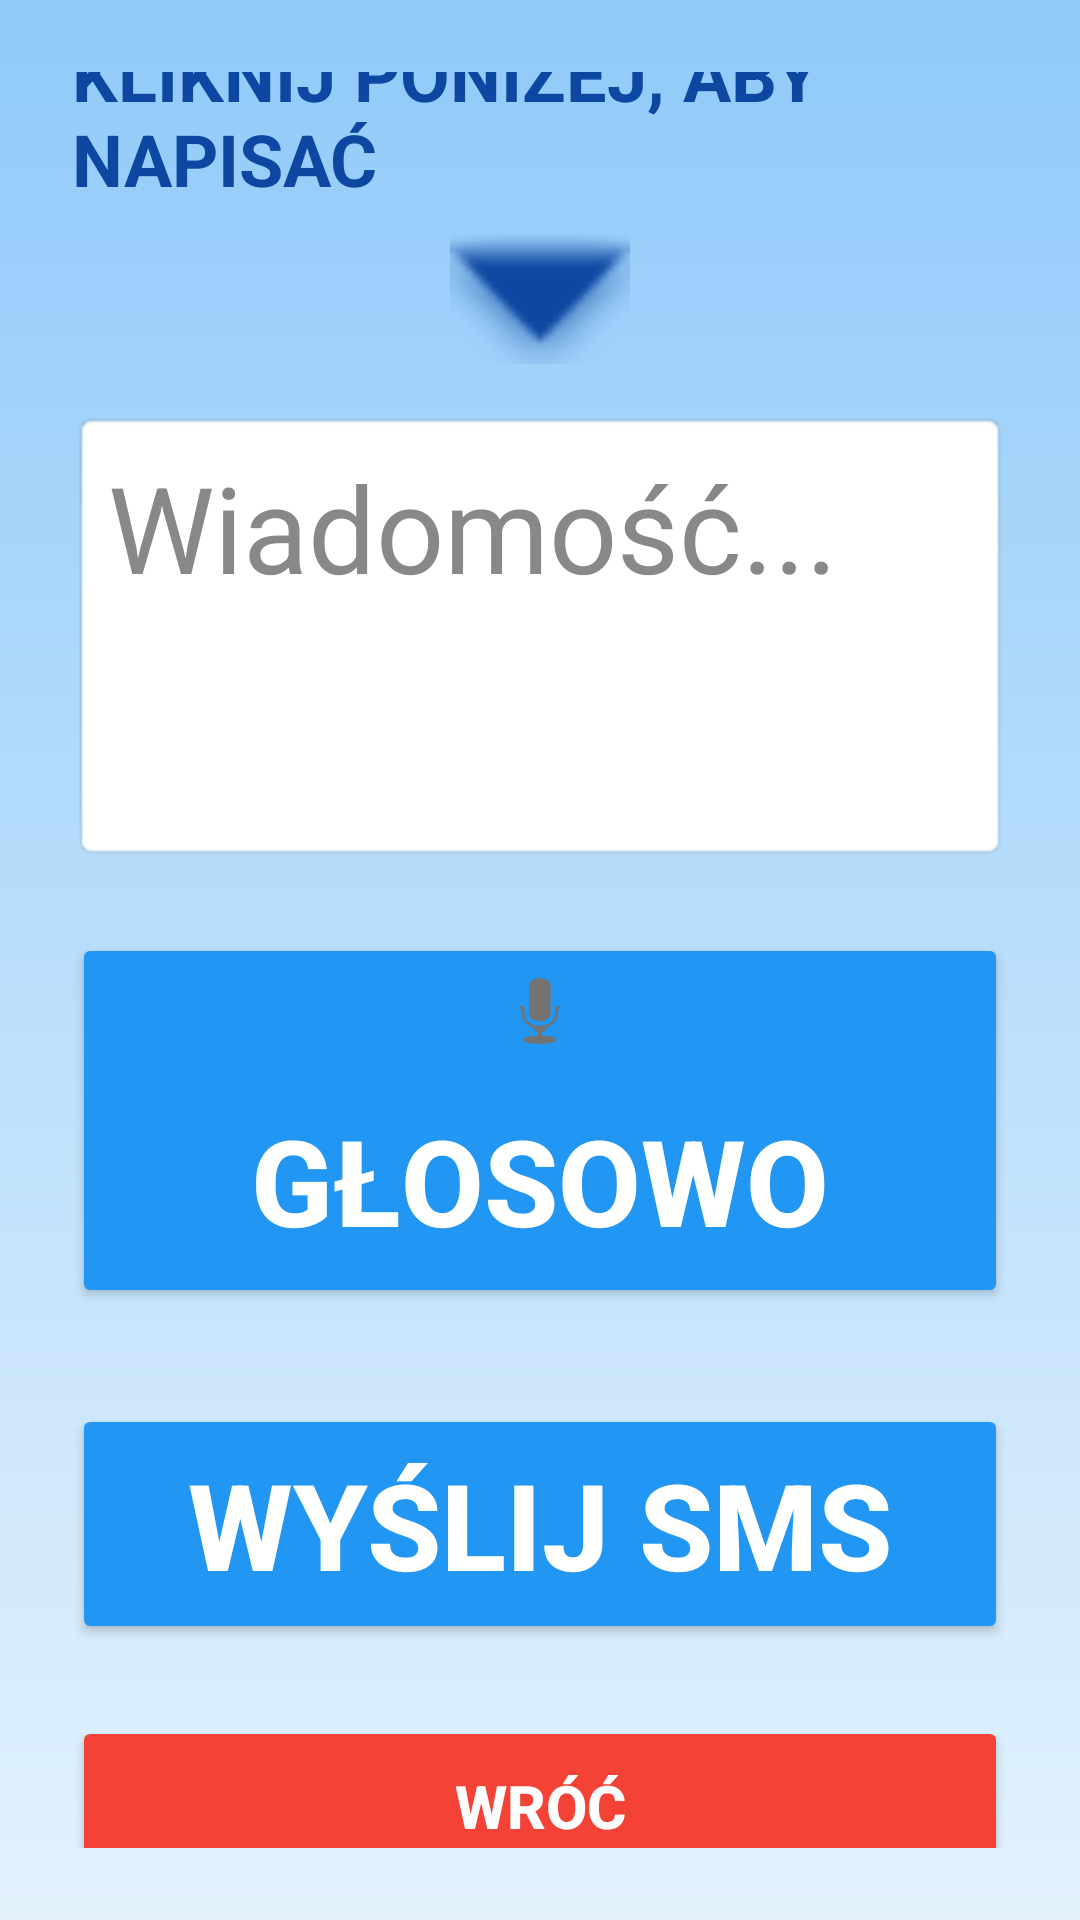

Point at icon controls on the screen. Image size 1080 x 1920, points as (x=x, y=y).
Strzałka w dół: (x=540, y=294)
